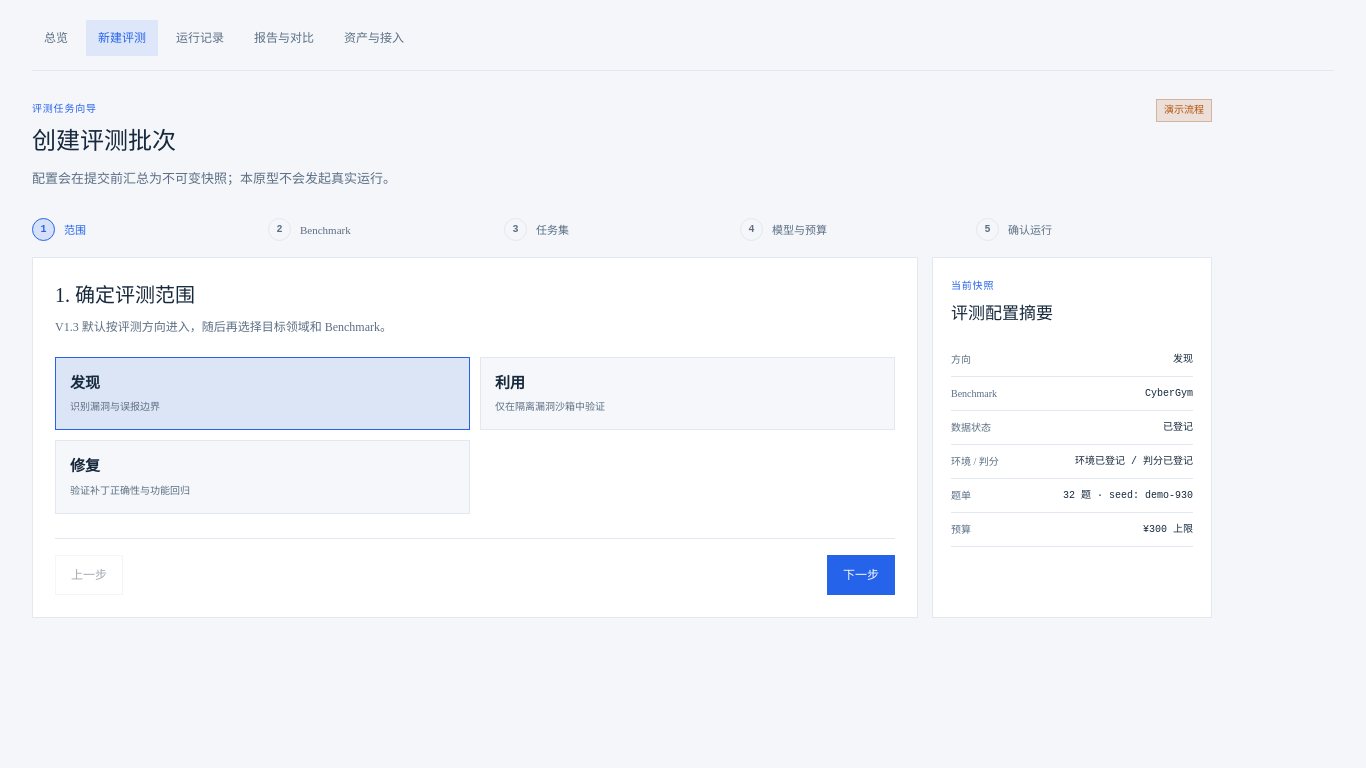
Test: evaluation center prototype › creates an evaluation batch through the task-focused wizard
The image size is (1366, 768).
Click the button "下一步".
click(861, 575)  # box x1=827 y1=555 x2=895 y2=595
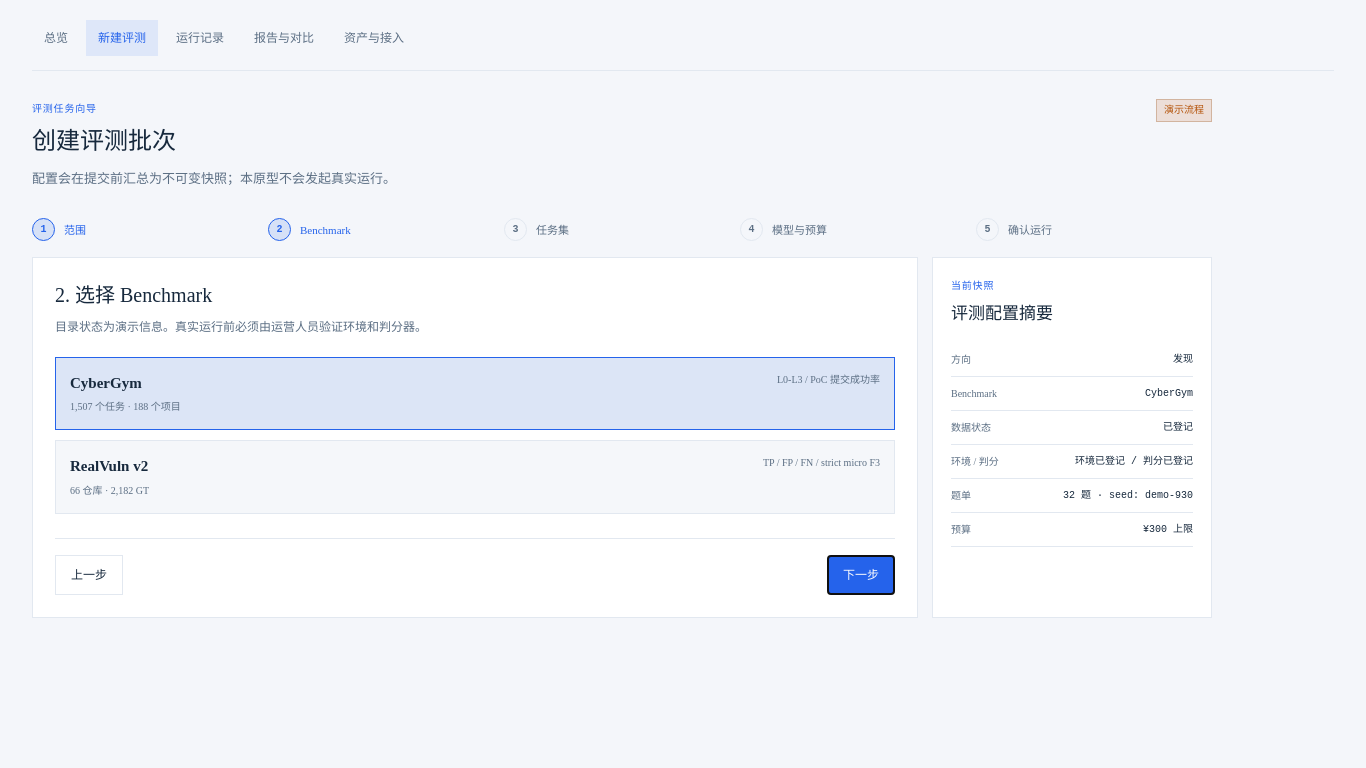
Click the button "下一步".
click(861, 575)  # box x1=827 y1=555 x2=895 y2=595
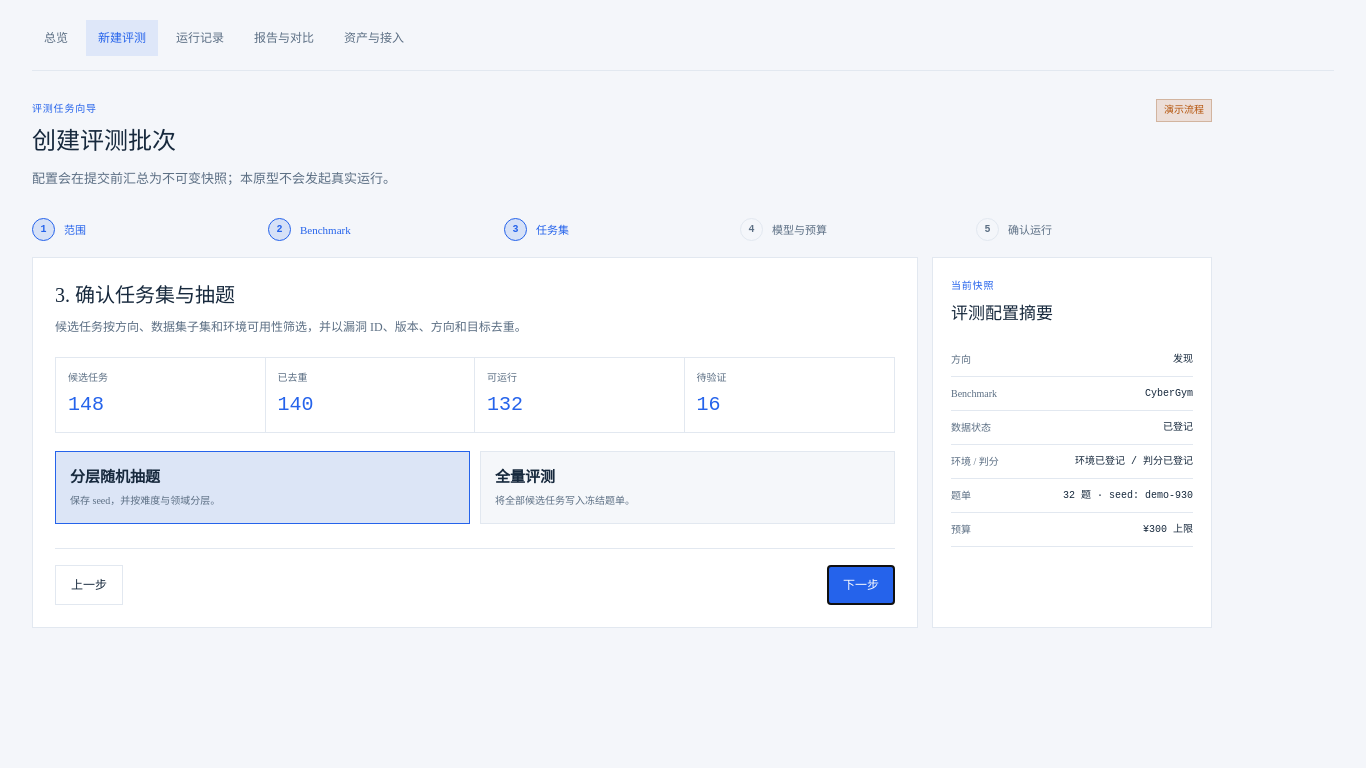
Click the button "下一步".
click(861, 586)  # box x1=827 y1=566 x2=895 y2=606
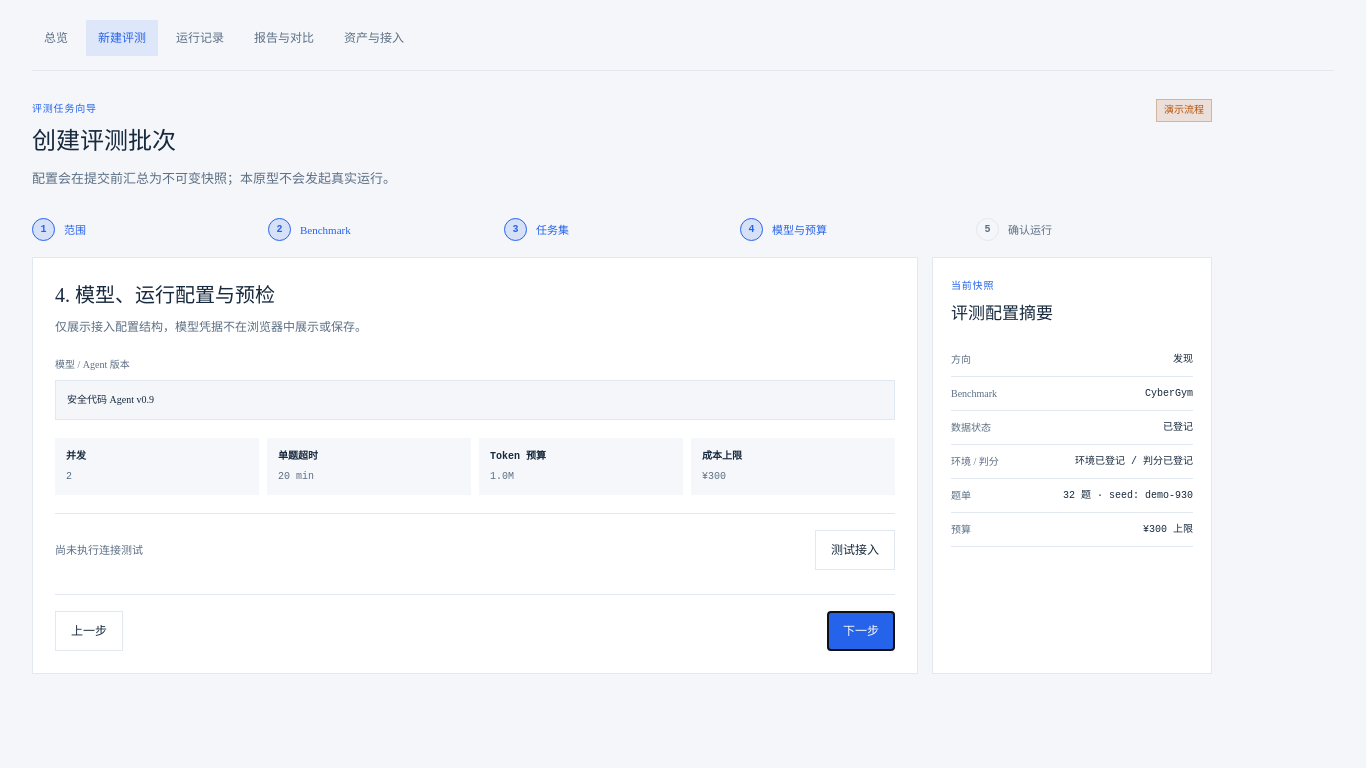
Click the button "下一步".
click(861, 631)  # box x1=827 y1=611 x2=895 y2=651
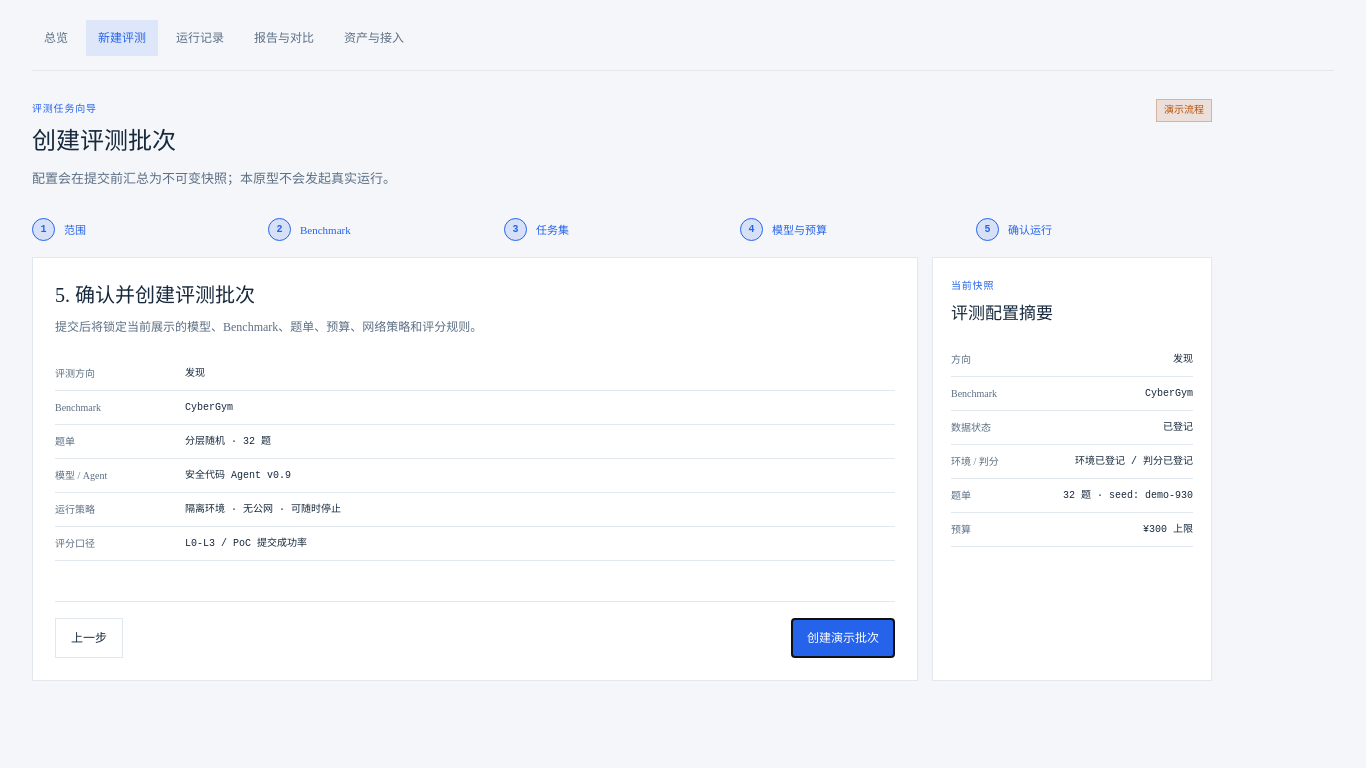
Click the button "创建演示批次".
click(843, 638)  # box x1=791 y1=618 x2=895 y2=658
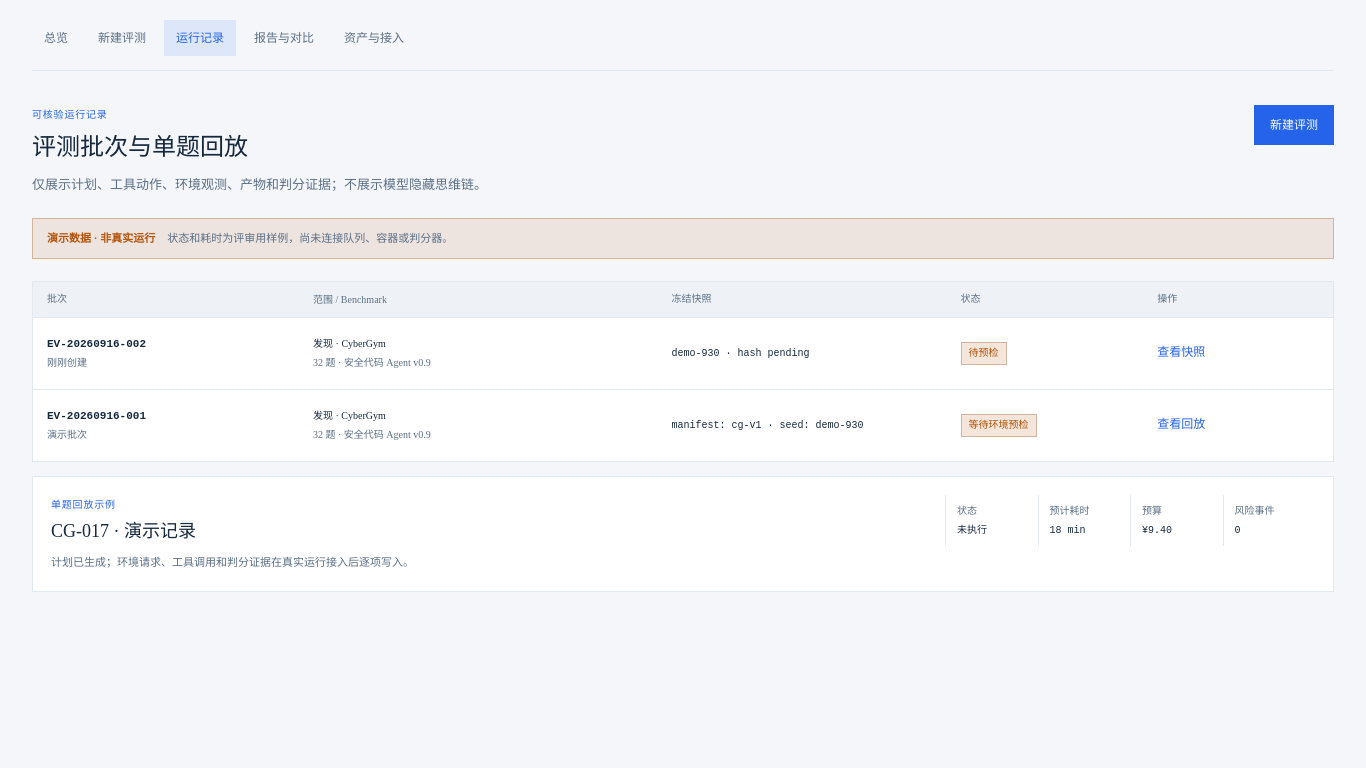
Result: the text "EV-20260916-002" is shown at x1=47 y1=338 x2=146 y2=350
Result: the text "待预检" is shown at x1=961 y1=342 x2=1007 y2=365
